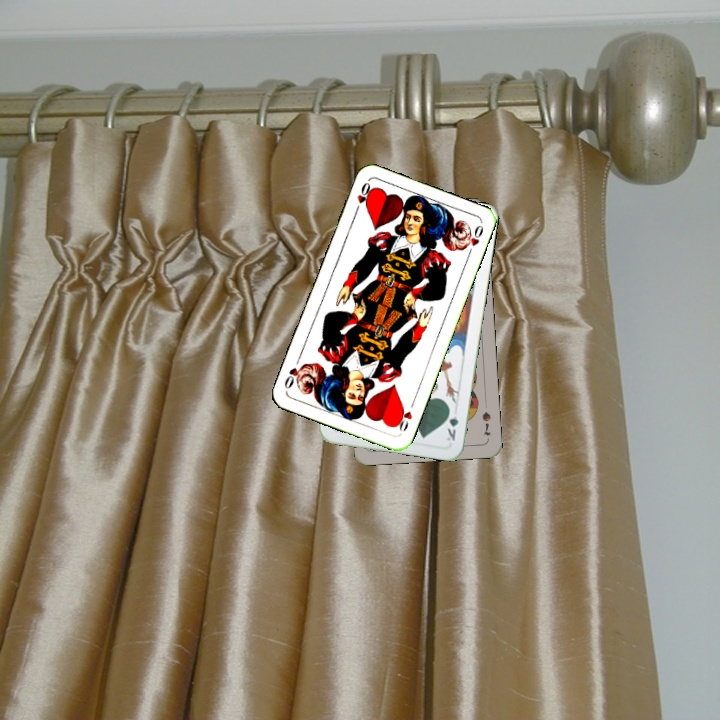GK: (443, 404, 461, 443)
HO: (392, 397, 417, 436), (351, 178, 374, 217)
S7: (478, 408, 493, 438)
